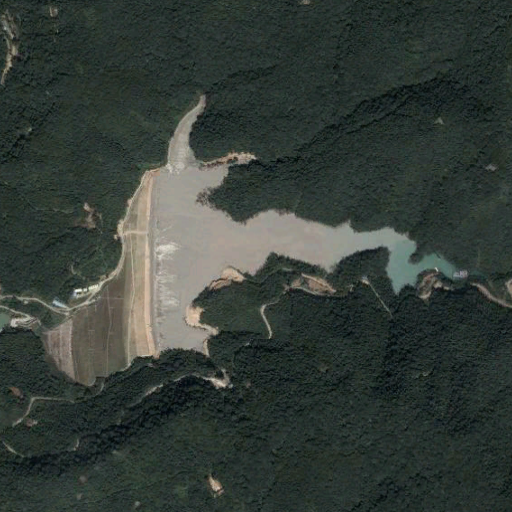tp: (41, 93, 461, 391)
